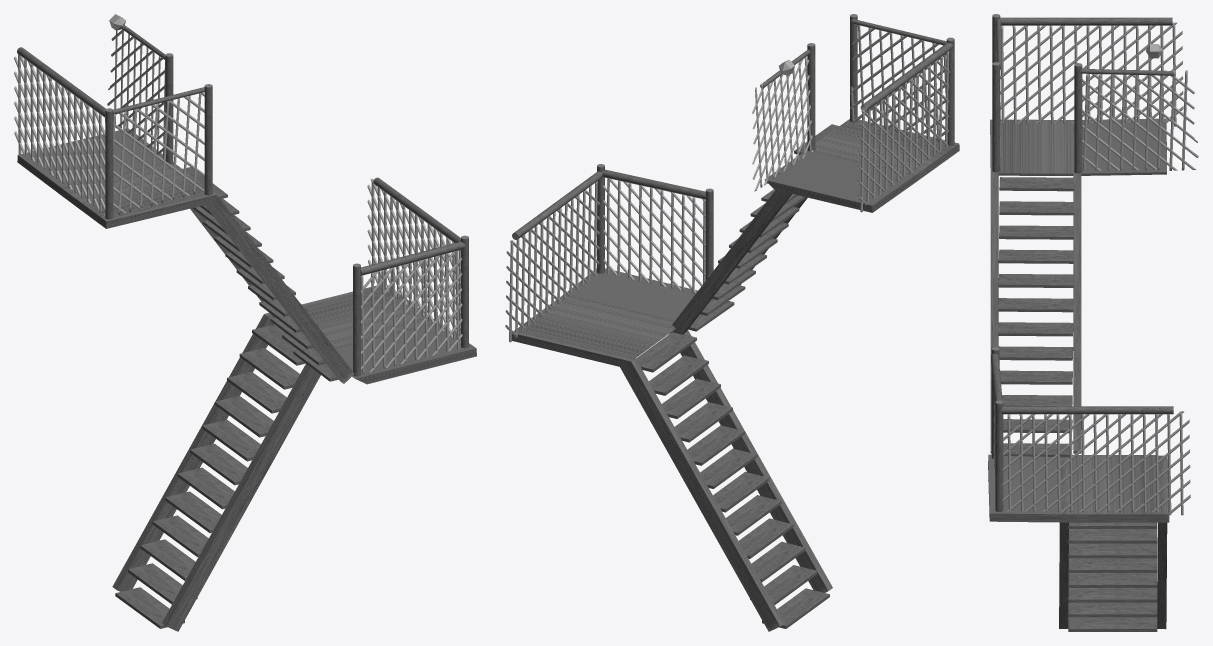
File: Stairs.fbx
3 renders of one model, left to right at view 1: azimuth 30°, elevation 25°; view 2: azimuth 150°, elevation 25°; view 3: azimuth 270°, elevation 25°, orthographic. The views are drawn at different scales.
Visible parts, largest first — view 1: CoreMaterialBuild.096; view 2: CoreMaterialBuild.096; view 3: CoreMaterialBuild.096.
Boxes of the visible parts, x1,y1,x2,y2 form: CoreMaterialBuild.096: (14, 14, 476, 631); CoreMaterialBuild.096: (505, 14, 959, 631); CoreMaterialBuild.096: (988, 14, 1198, 631).
Size of the model in its own units: 317 by 478 by 158.
Materials: 2 (1 with a texture image).
